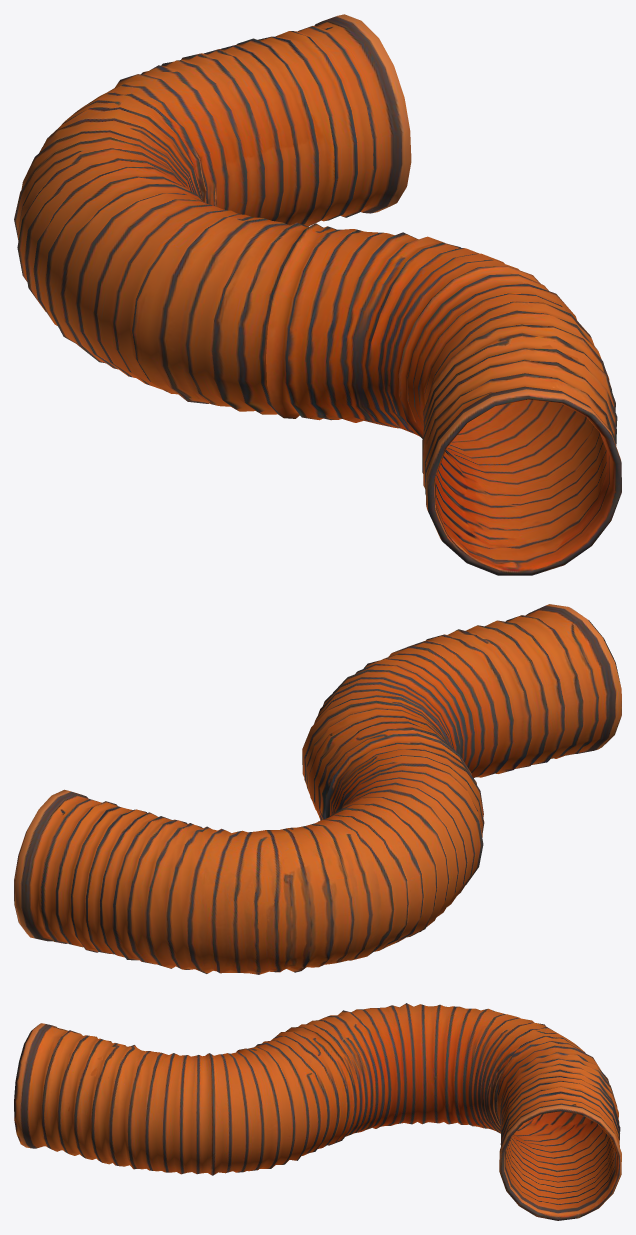
File: flexible_duct_3d_model_1.fbx
3 views of the same model, one above another, from view 1: azimuth 30°, elevation 25°; view 2: azimuth 150°, elevation 25°; view 3: azimuth 270°, elevation 25° (orthographic). The views are drawn at different scales.
Visible parts, largest first — view 1: tripo_node_d71c79d5; view 2: tripo_node_d71c79d5; view 3: tripo_node_d71c79d5.
Part boxes in pixels (box(x1,y1,x2,y2)): tripo_node_d71c79d5: box(14, 14, 621, 575); tripo_node_d71c79d5: box(14, 604, 621, 974); tripo_node_d71c79d5: box(14, 1003, 621, 1220).
Size of the model in its own units: 0.4785 by 0.2023 by 0.9763.
